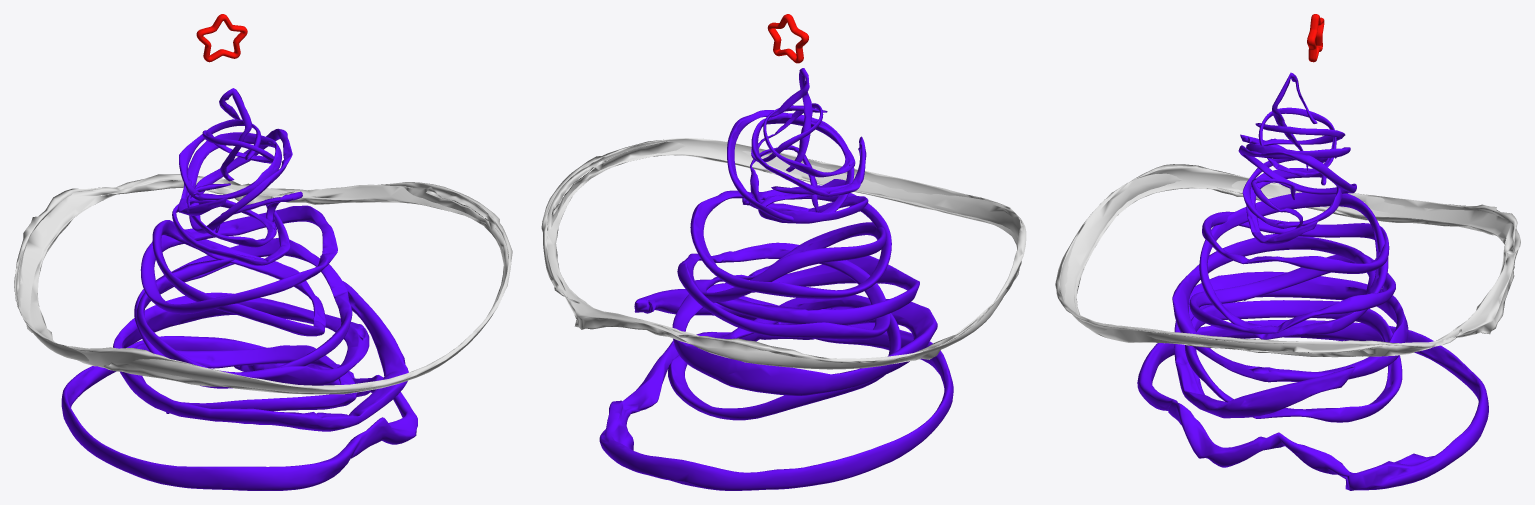
File: engine.glb
3 renders of one model, left to right at view 1: azimuth 30°, elevation 25°; view 2: azimuth 150°, elevation 25°; view 3: azimuth 270°, elevation 25°, orthographic. The views are drawn at different scales.
Visible parts, largest first — view 1: tripo_node_e7e09e58-2e43-481d-bd8e-657e9cb252f1.012, tripo_node_e7e09e58-2e43-481d-bd8e-657e9cb252f1.003, tripo_node_e7e09e58-2e43-481d-bd8e-657e9cb252f1.004, tripo_node_e7e09e58-2e43-481d-bd8e-657e9cb252f1.015, tripo_node_e7e09e58-2e43-481d-bd8e-657e9cb252f1, tripo_node_e7e09e58-2e43-481d-bd8e-657e9cb252f1.013, tripo_node_e7e09e58-2e43-481d-bd8e-657e9cb252f1.018, tripo_node_e7e09e58-2e43-481d-bd8e-657e9cb252f1.005, tripo_node_e7e09e58-2e43-481d-bd8e-657e9cb252f1.016, tripo_node_e7e09e58-2e43-481d-bd8e-657e9cb252f1.017, STAR, tripo_node_e7e09e58-2e43-481d-bd8e-657e9cb252f1.021 (+2 smaller); view 2: tripo_node_e7e09e58-2e43-481d-bd8e-657e9cb252f1.012, tripo_node_e7e09e58-2e43-481d-bd8e-657e9cb252f1.003, tripo_node_e7e09e58-2e43-481d-bd8e-657e9cb252f1.004, tripo_node_e7e09e58-2e43-481d-bd8e-657e9cb252f1.005, tripo_node_e7e09e58-2e43-481d-bd8e-657e9cb252f1, tripo_node_e7e09e58-2e43-481d-bd8e-657e9cb252f1.015, tripo_node_e7e09e58-2e43-481d-bd8e-657e9cb252f1.013, tripo_node_e7e09e58-2e43-481d-bd8e-657e9cb252f1.018, tripo_node_e7e09e58-2e43-481d-bd8e-657e9cb252f1.016, tripo_node_e7e09e58-2e43-481d-bd8e-657e9cb252f1.017, tripo_node_e7e09e58-2e43-481d-bd8e-657e9cb252f1.021, STAR (+2 smaller); view 3: tripo_node_e7e09e58-2e43-481d-bd8e-657e9cb252f1.012, tripo_node_e7e09e58-2e43-481d-bd8e-657e9cb252f1.003, tripo_node_e7e09e58-2e43-481d-bd8e-657e9cb252f1.004, tripo_node_e7e09e58-2e43-481d-bd8e-657e9cb252f1, tripo_node_e7e09e58-2e43-481d-bd8e-657e9cb252f1.013, tripo_node_e7e09e58-2e43-481d-bd8e-657e9cb252f1.005, tripo_node_e7e09e58-2e43-481d-bd8e-657e9cb252f1.015, tripo_node_e7e09e58-2e43-481d-bd8e-657e9cb252f1.016, tripo_node_e7e09e58-2e43-481d-bd8e-657e9cb252f1.018, tripo_node_e7e09e58-2e43-481d-bd8e-657e9cb252f1.017, tripo_node_e7e09e58-2e43-481d-bd8e-657e9cb252f1.020, tripo_node_e7e09e58-2e43-481d-bd8e-657e9cb252f1.021 (+2 smaller).
Part boxes in pixels (box(x1,y1,x2,y2)): tripo_node_e7e09e58-2e43-481d-bd8e-657e9cb252f1.012: box(14, 174, 512, 394); tripo_node_e7e09e58-2e43-481d-bd8e-657e9cb252f1.003: box(113, 258, 408, 431); tripo_node_e7e09e58-2e43-481d-bd8e-657e9cb252f1.004: box(61, 336, 417, 490); tripo_node_e7e09e58-2e43-481d-bd8e-657e9cb252f1.015: box(140, 205, 337, 314); tripo_node_e7e09e58-2e43-481d-bd8e-657e9cb252f1: box(135, 344, 357, 411); tripo_node_e7e09e58-2e43-481d-bd8e-657e9cb252f1.013: box(152, 220, 326, 336); tripo_node_e7e09e58-2e43-481d-bd8e-657e9cb252f1.018: box(178, 119, 281, 215); tripo_node_e7e09e58-2e43-481d-bd8e-657e9cb252f1.005: box(134, 238, 352, 388); tripo_node_e7e09e58-2e43-481d-bd8e-657e9cb252f1.016: box(172, 183, 290, 265); tripo_node_e7e09e58-2e43-481d-bd8e-657e9cb252f1.017: box(189, 128, 292, 233); STAR: box(196, 14, 247, 62); tripo_node_e7e09e58-2e43-481d-bd8e-657e9cb252f1.021: box(219, 88, 251, 181); tripo_node_e7e09e58-2e43-481d-bd8e-657e9cb252f1.012: box(541, 138, 1026, 369); tripo_node_e7e09e58-2e43-481d-bd8e-657e9cb252f1.003: box(634, 255, 937, 395); tripo_node_e7e09e58-2e43-481d-bd8e-657e9cb252f1.004: box(599, 323, 953, 490); tripo_node_e7e09e58-2e43-481d-bd8e-657e9cb252f1.005: box(677, 242, 890, 339); tripo_node_e7e09e58-2e43-481d-bd8e-657e9cb252f1: box(668, 294, 901, 420); tripo_node_e7e09e58-2e43-481d-bd8e-657e9cb252f1.015: box(690, 185, 891, 298); tripo_node_e7e09e58-2e43-481d-bd8e-657e9cb252f1.013: box(695, 222, 886, 302); tripo_node_e7e09e58-2e43-481d-bd8e-657e9cb252f1.018: box(751, 105, 866, 196); tripo_node_e7e09e58-2e43-481d-bd8e-657e9cb252f1.016: box(742, 179, 868, 223); tripo_node_e7e09e58-2e43-481d-bd8e-657e9cb252f1.017: box(727, 110, 854, 221); tripo_node_e7e09e58-2e43-481d-bd8e-657e9cb252f1.021: box(770, 68, 812, 172); STAR: box(767, 14, 808, 63); tripo_node_e7e09e58-2e43-481d-bd8e-657e9cb252f1.012: box(1055, 164, 1520, 357); tripo_node_e7e09e58-2e43-481d-bd8e-657e9cb252f1.003: box(1172, 234, 1408, 418); tripo_node_e7e09e58-2e43-481d-bd8e-657e9cb252f1.004: box(1137, 320, 1488, 490); tripo_node_e7e09e58-2e43-481d-bd8e-657e9cb252f1: box(1185, 300, 1402, 422); tripo_node_e7e09e58-2e43-481d-bd8e-657e9cb252f1.013: box(1199, 192, 1388, 339); tripo_node_e7e09e58-2e43-481d-bd8e-657e9cb252f1.005: box(1189, 255, 1395, 334); tripo_node_e7e09e58-2e43-481d-bd8e-657e9cb252f1.015: box(1202, 211, 1389, 273); tripo_node_e7e09e58-2e43-481d-bd8e-657e9cb252f1.016: box(1242, 158, 1342, 244); tripo_node_e7e09e58-2e43-481d-bd8e-657e9cb252f1.018: box(1240, 123, 1350, 162); tripo_node_e7e09e58-2e43-481d-bd8e-657e9cb252f1.017: box(1238, 145, 1356, 194); tripo_node_e7e09e58-2e43-481d-bd8e-657e9cb252f1.020: box(1258, 107, 1336, 177); tripo_node_e7e09e58-2e43-481d-bd8e-657e9cb252f1.021: box(1272, 72, 1317, 170).
Bounding box in the file's own units: 1.09 × 1.07 × 1.11.
